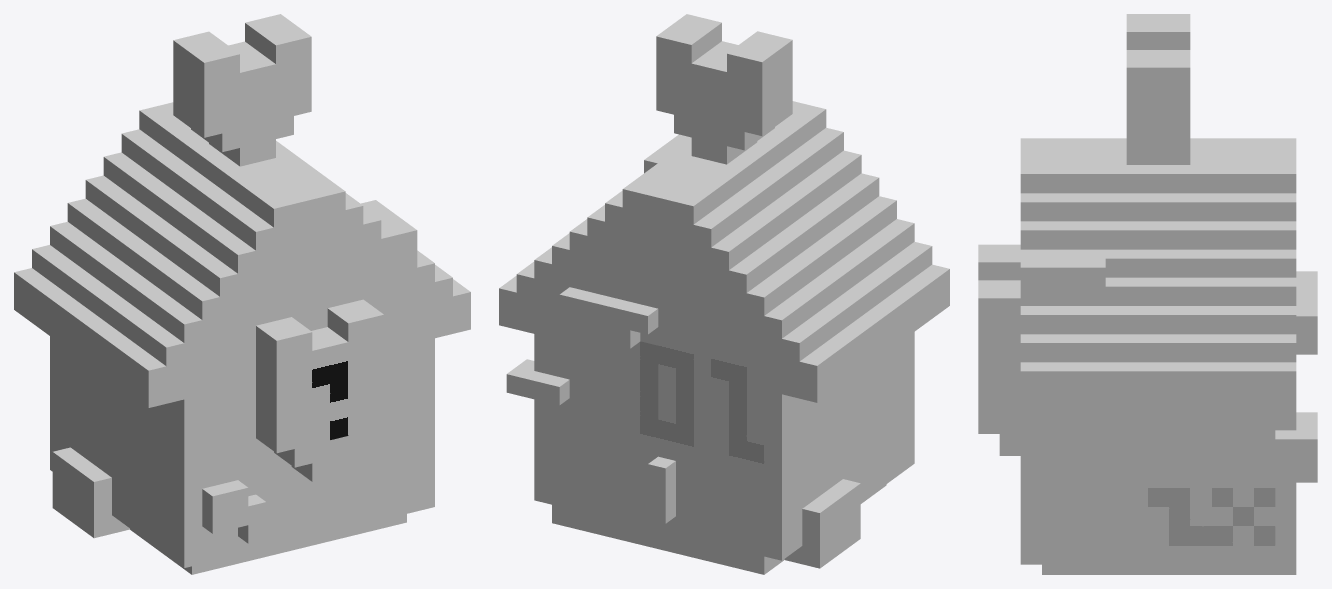
The model's file is HOME#02_GLB.glb.
3 renders of one model, left to right at view 1: azimuth 30°, elevation 25°; view 2: azimuth 150°, elevation 25°; view 3: azimuth 270°, elevation 25°, orthographic. The views are drawn at different scales.
Visible parts, largest first — view 1: CASAPEQUE-Local; view 2: CASAPEQUE-Local; view 3: CASAPEQUE-Local.
Boxes of the visible parts, left/top/right/bottom form: CASAPEQUE-Local: left=14, top=14, right=470, bottom=574; CASAPEQUE-Local: left=499, top=14, right=949, bottom=574; CASAPEQUE-Local: left=978, top=14, right=1317, bottom=574.
Bounding box in the file's own units: 18 × 25 × 16.
Materials: 2 (2 with a texture image).
